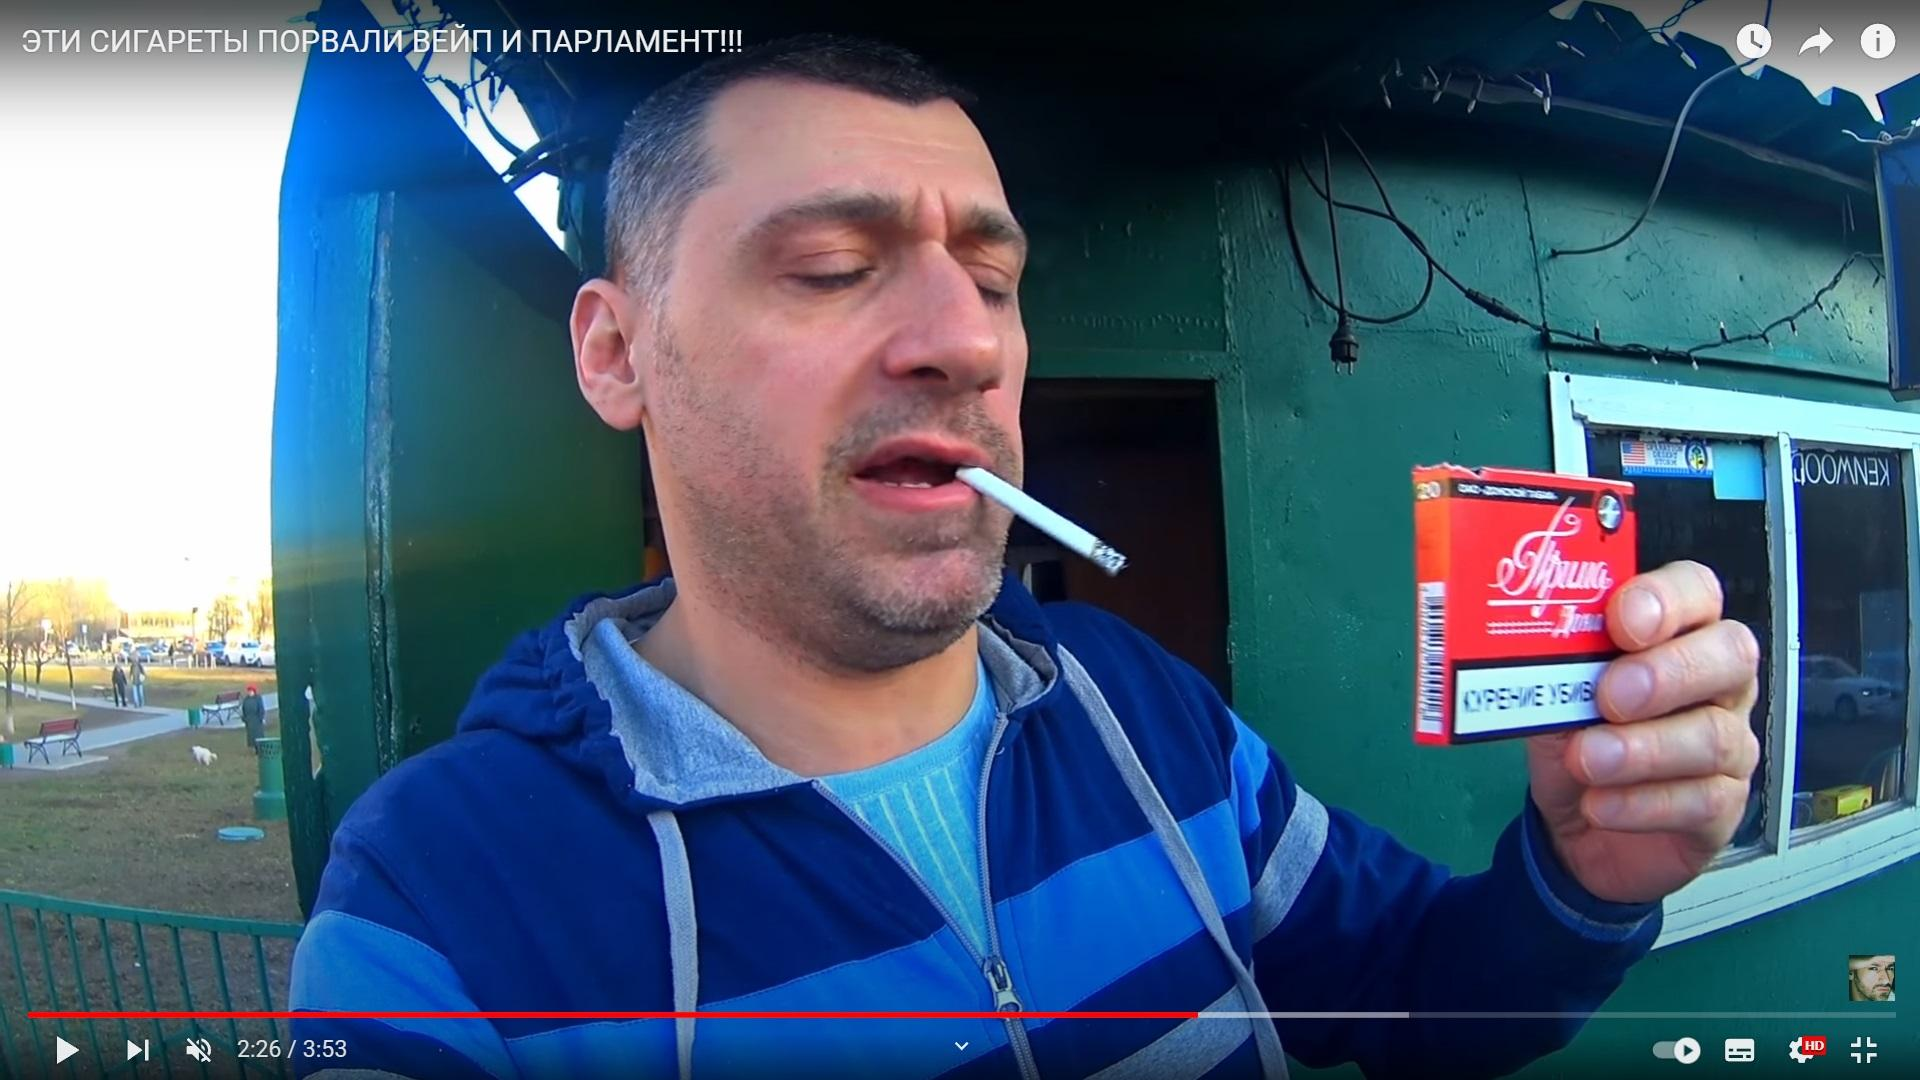cigarette: (953, 465, 1127, 575)
